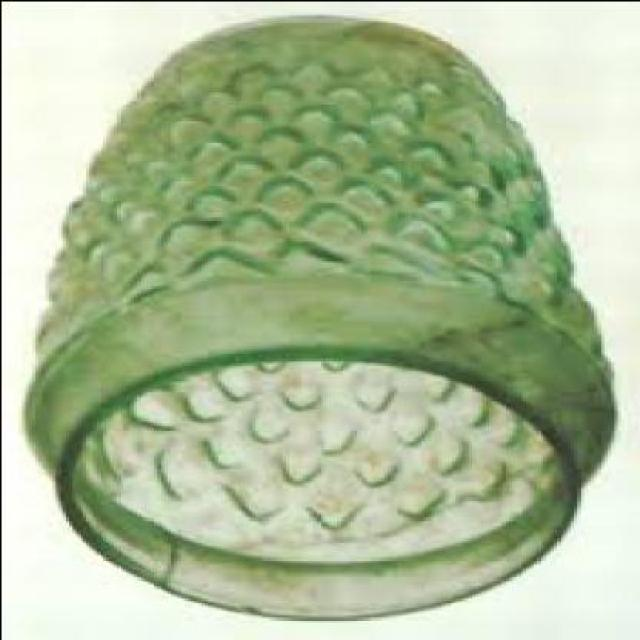GLASS: (24, 20, 616, 623)
